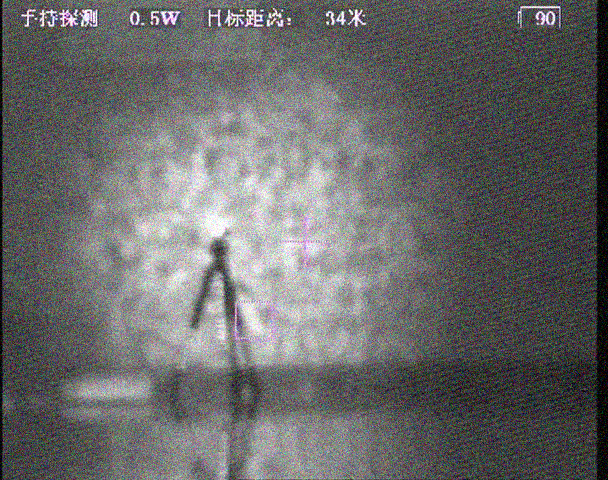my: (203, 214, 227, 239)
